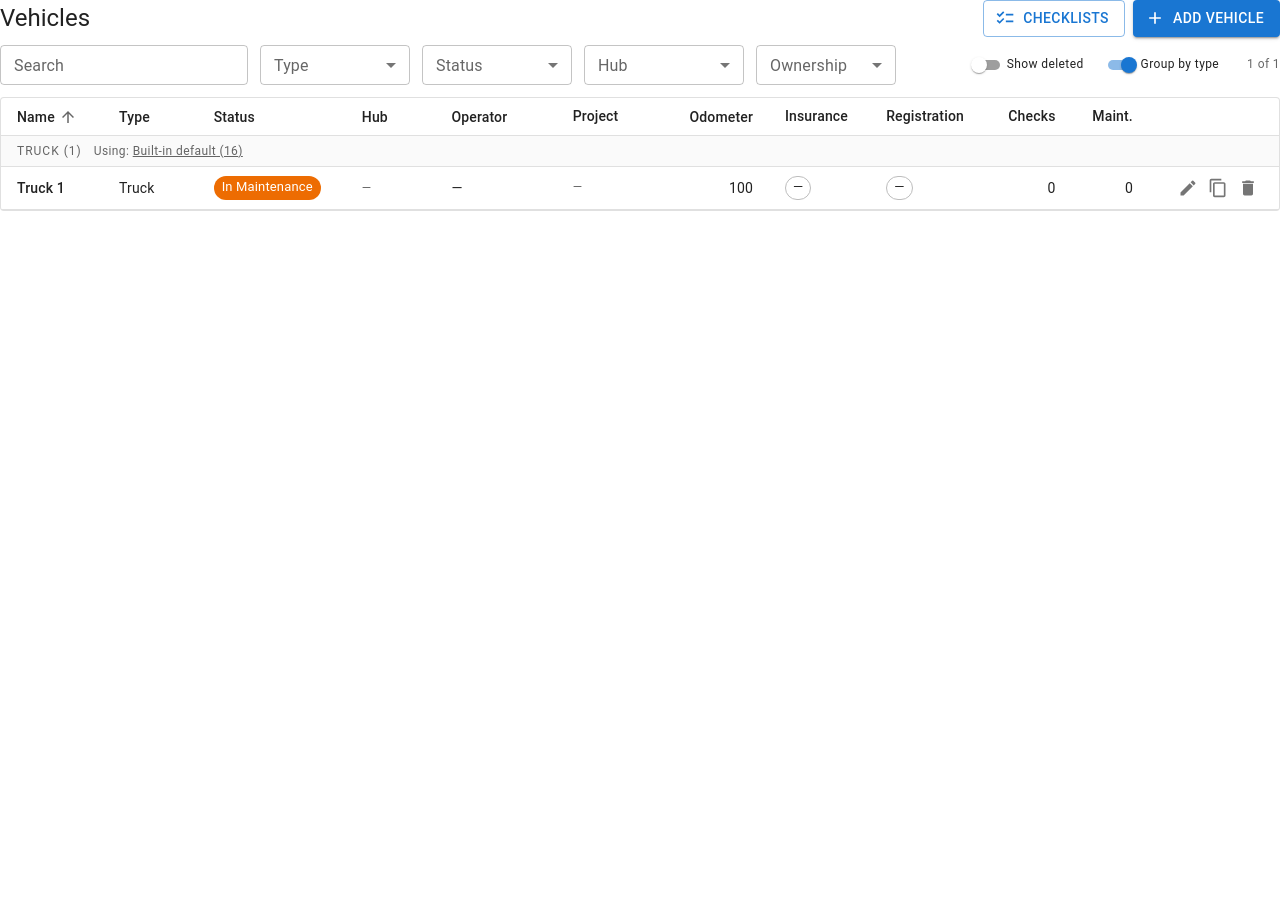
it: vehicle drawer — derived and admin-owned states (D-g) › Edit form Status offers only Active / Out of service / Retired (In maintenance shown, disabled)
Step 1. Click the text "Truck 1" → (41, 188), box [17, 178, 65, 198]
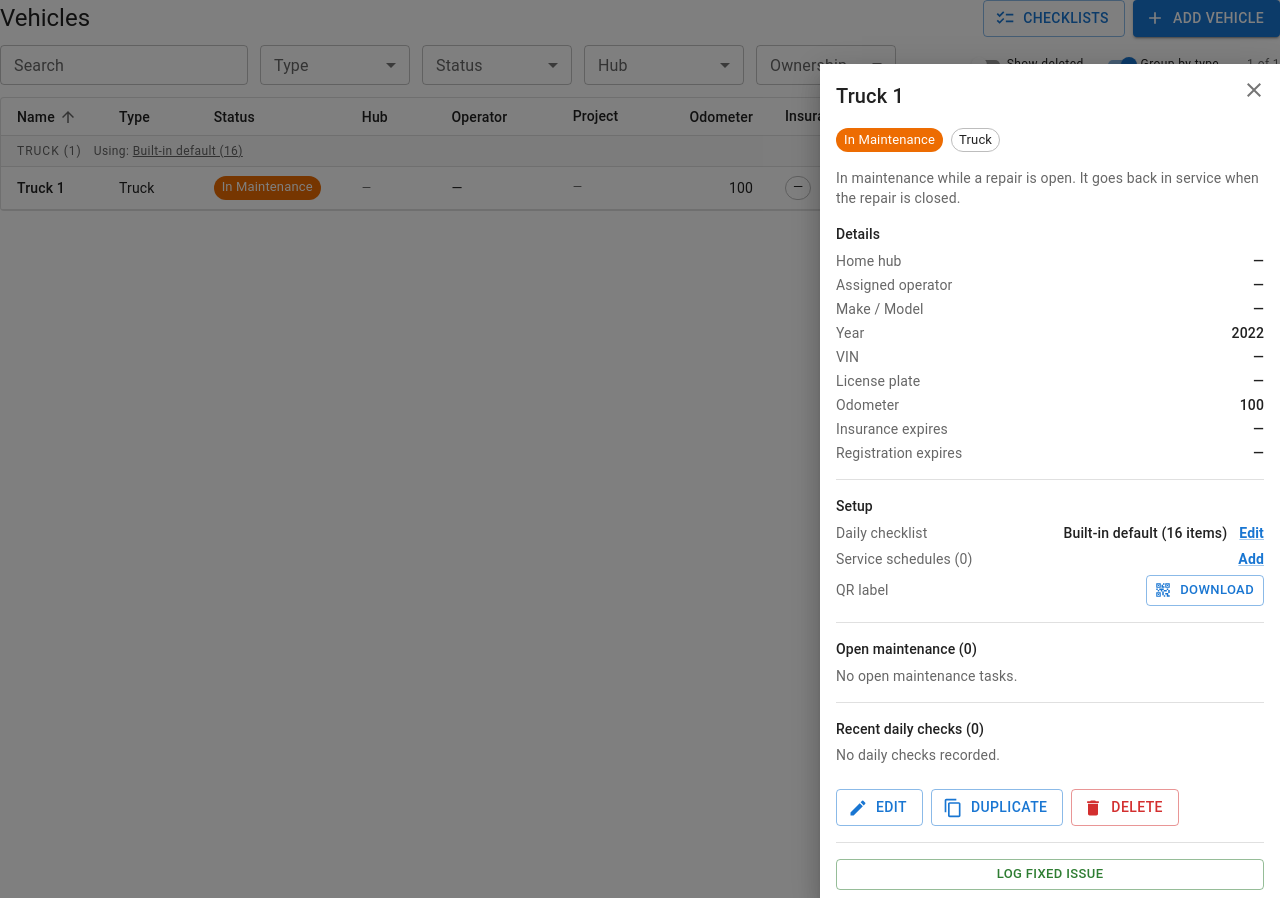
Step 2. Click the button "Edit" → (879, 808), box [836, 789, 923, 826]
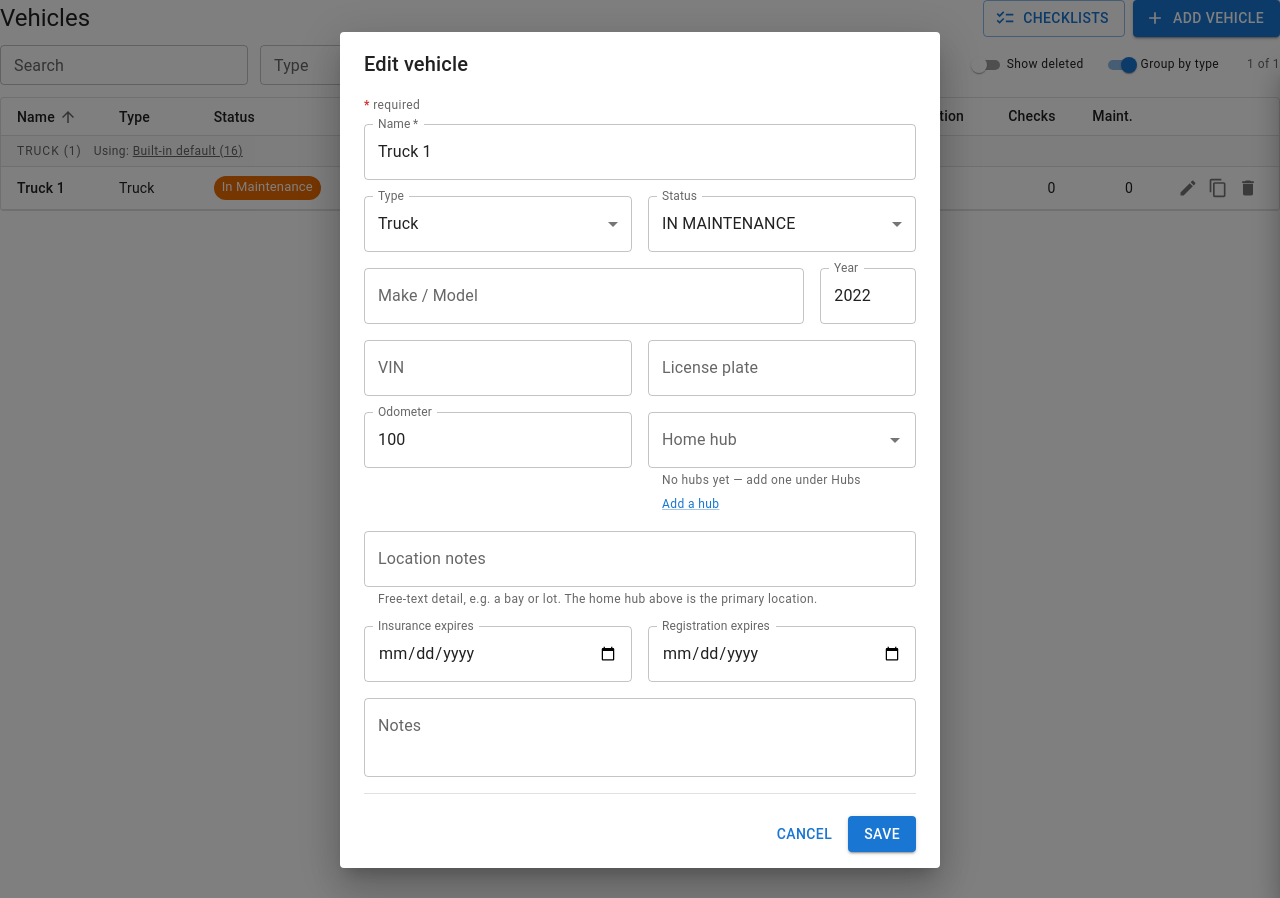
Step 3. Press the mouse on the dropdown named "Status" → (729, 224), box [662, 214, 796, 233]
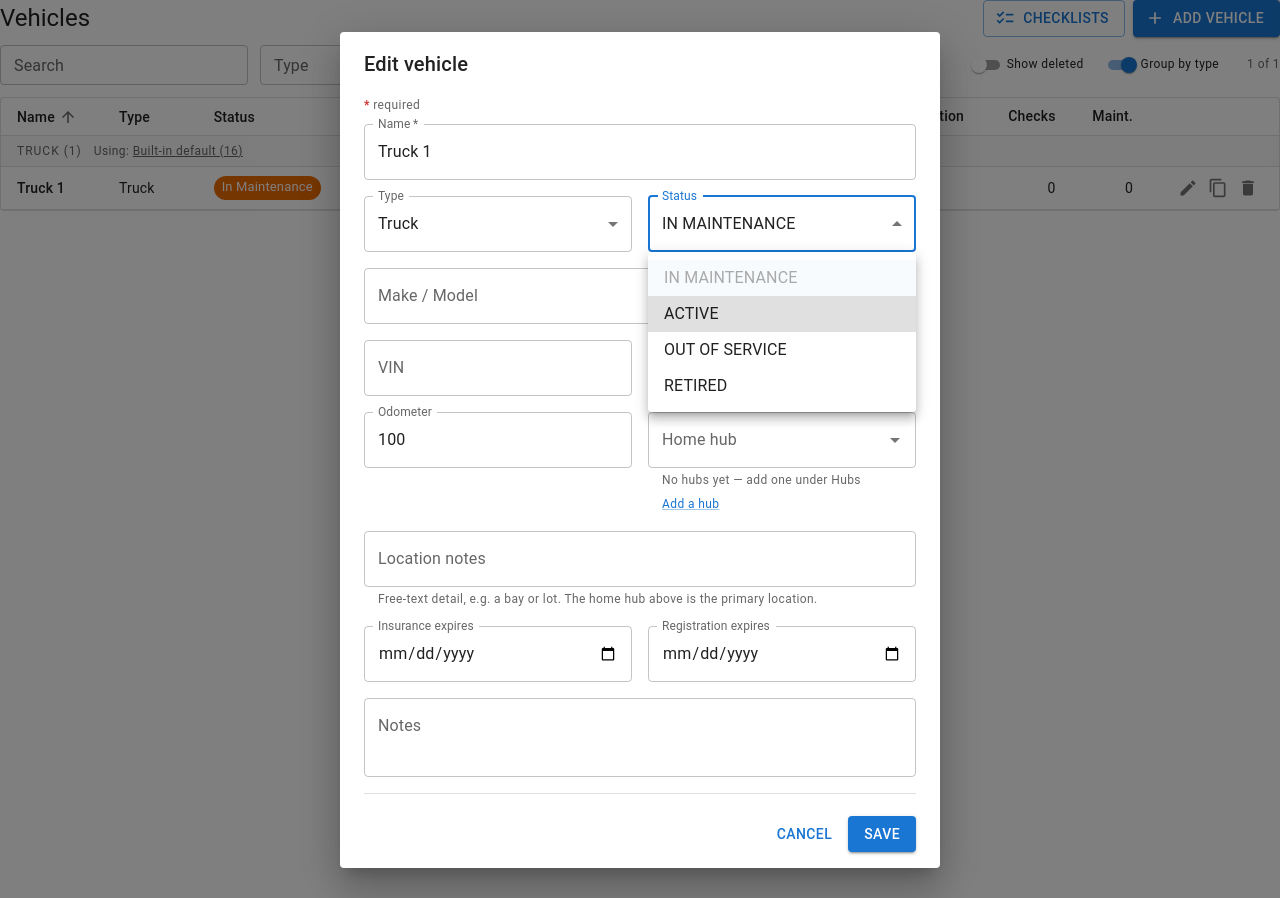
Expected: the options read "IN MAINTENANCE", "ACTIVE", "OUT OF SERVICE", "RETIRED", in this order, [648, 260, 916, 296]; [648, 296, 916, 332]; [664, 340, 787, 359]; [664, 376, 728, 395]
